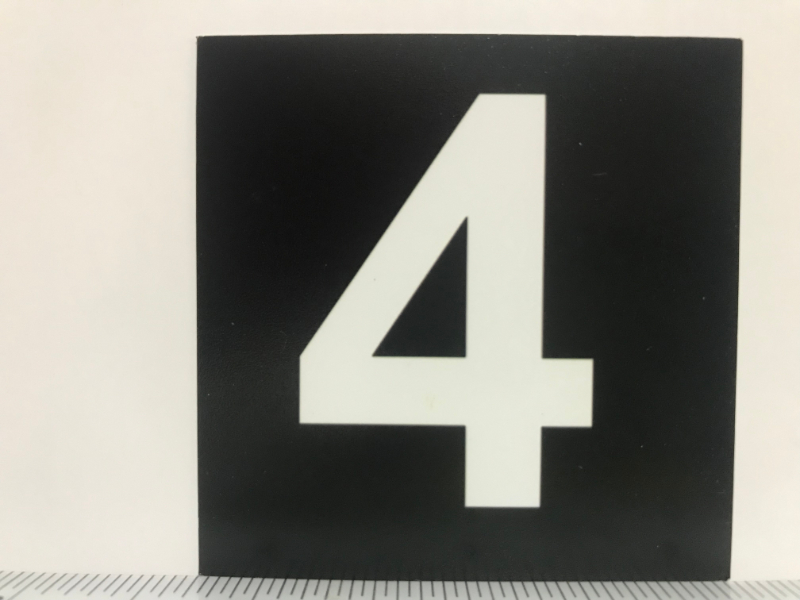Four-9: (203, 42, 729, 572)
